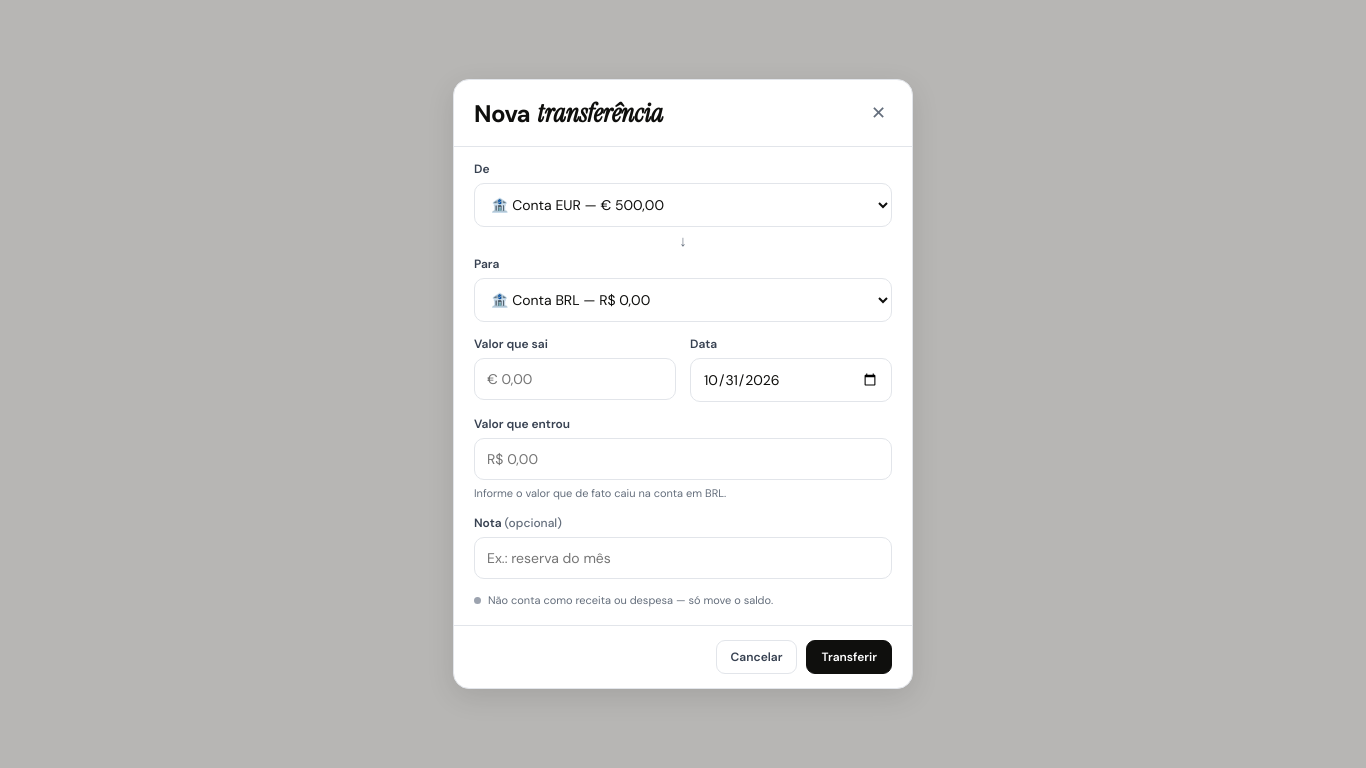
Test: TransferModal entre moedas › pré-preenche pela cotação e mostra a data dela
Select "🏦 Conta EUR — € 500,00" in the 1st dropdown at {"x": 683, "y": 204}, box [474,182,892,226]
Select "🏦 Conta BRL — R$ 0,00" in the dropdown below "Para" at {"x": 683, "y": 300}, box [474,278,892,322]
Type "100" into the field with placeholder "€ 0,00" at {"x": 575, "y": 378}, box [474,358,676,400]
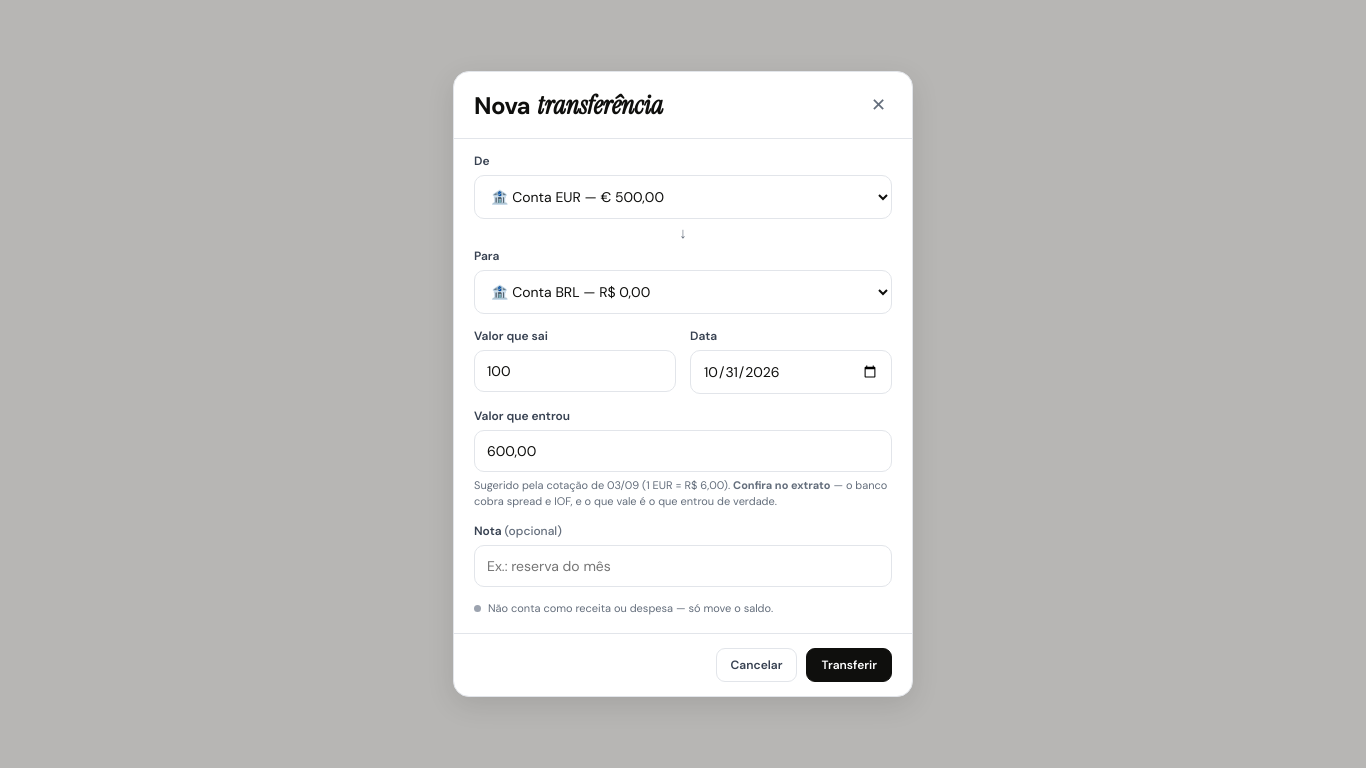
Check: the field showing "600,00" below "Valor que entrou" is shown, box [474,430,892,472]
Check: the text "03/09" is shown, box [607,478,639,492]
